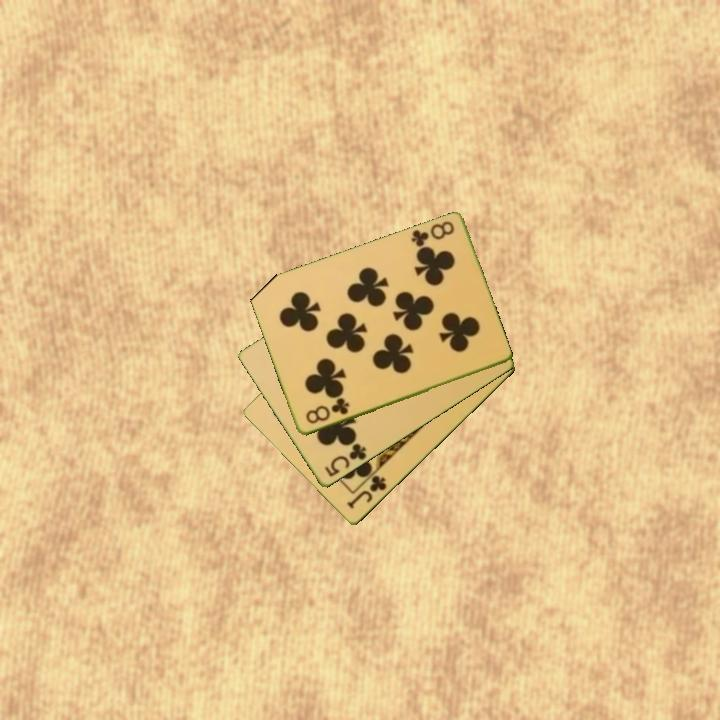5c: (321, 440, 370, 480)
8c: (302, 395, 352, 427), (407, 218, 457, 250)
Jc: (343, 472, 390, 512)
